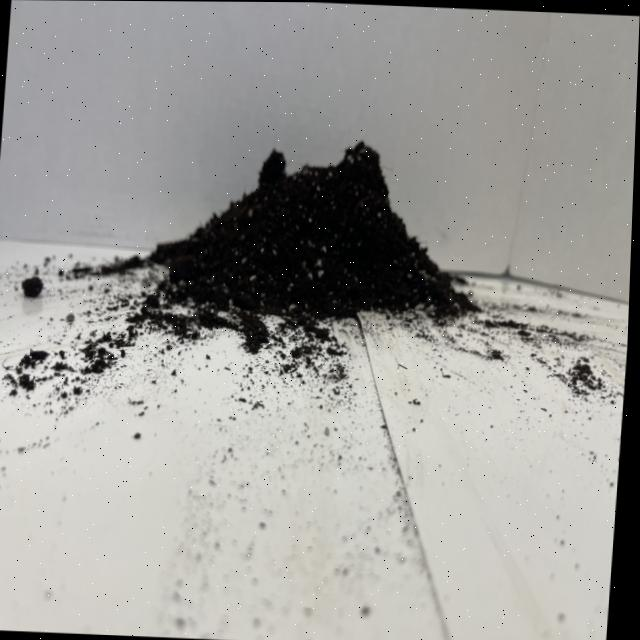soil: (143, 129, 492, 328)
